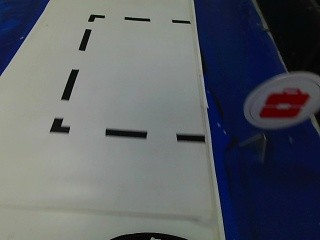company: (247, 71, 320, 131)
